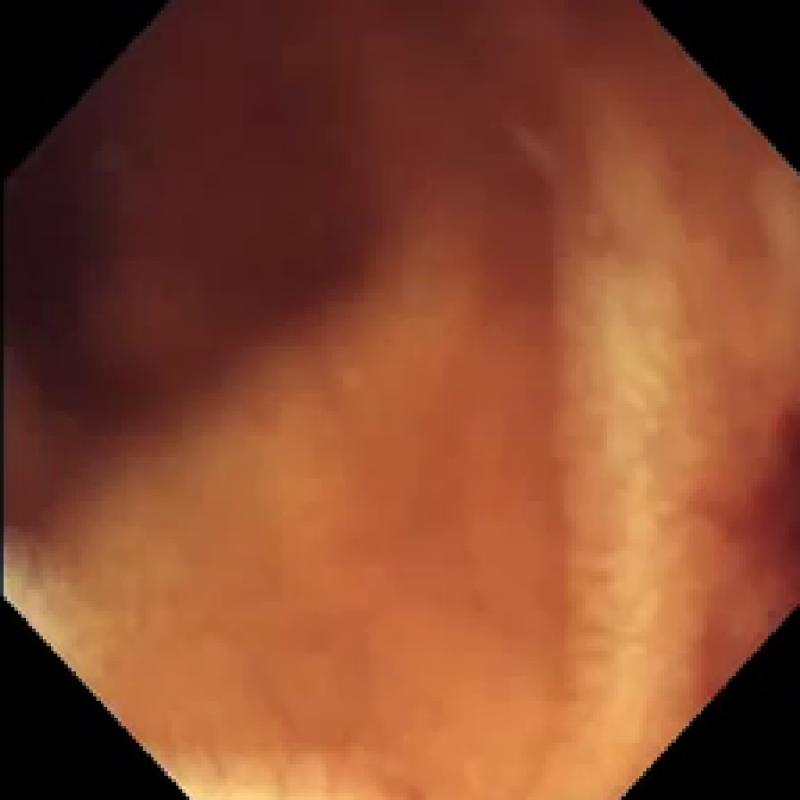bleeding: (689, 393, 800, 657)
